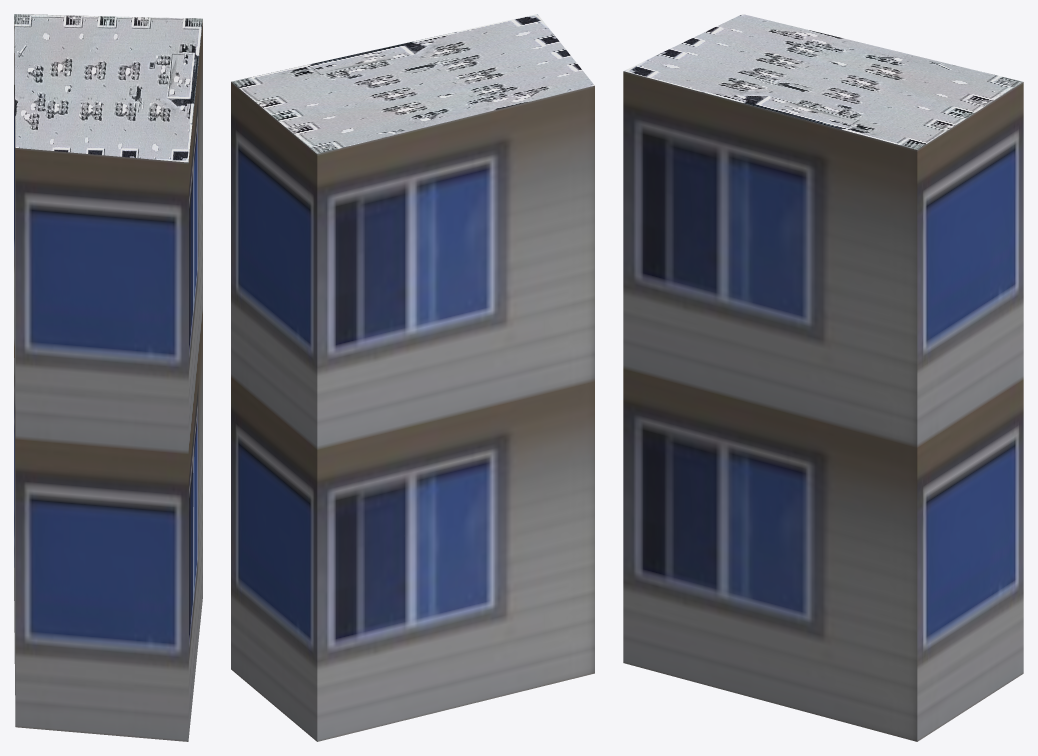
The model's file is ResTex__2249.fbx.
The picture shows the model from 3 angles, left to right: view 1: azimuth 30°, elevation 25°; view 2: azimuth 150°, elevation 25°; view 3: azimuth 270°, elevation 25°; orthographic projection. The views are drawn at different scales.
Parts seen in each view (by area): view 1: CityEngineMaterial_23_m, CityEngineMaterial_m; view 2: CityEngineMaterial_23_m, CityEngineMaterial_m; view 3: CityEngineMaterial_23_m, CityEngineMaterial_m.
Part boxes in pixels (box(x1,y1,x2,y2)): CityEngineMaterial_23_m: box(14, 19, 202, 741); CityEngineMaterial_m: box(14, 14, 202, 162); CityEngineMaterial_23_m: box(231, 82, 594, 741); CityEngineMaterial_m: box(231, 14, 594, 153); CityEngineMaterial_23_m: box(623, 71, 1023, 741); CityEngineMaterial_m: box(624, 14, 1022, 149).
Size of the model in its own units: 2.96 by 6 by 3.67.
2 materials, 2 textured.
